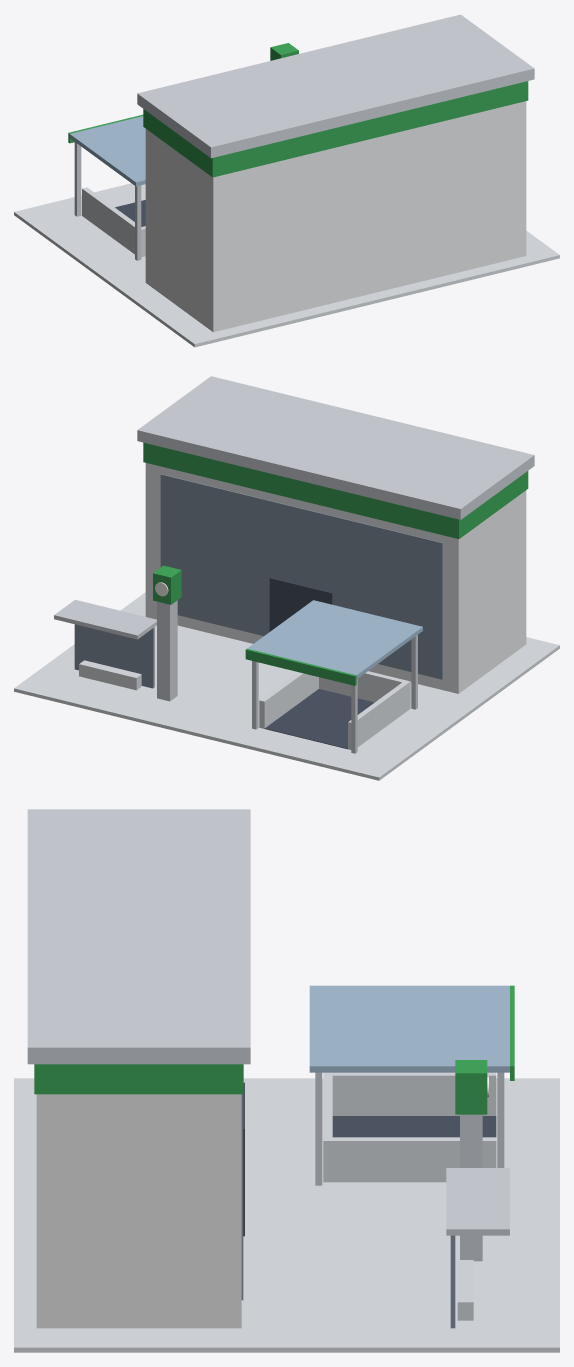
File: station.glb
The picture shows the model from 3 angles, top to bottom: view 1: azimuth 30°, elevation 25°; view 2: azimuth 150°, elevation 25°; view 3: azimuth 270°, elevation 25°; orthographic projection. The views are drawn at different scales.
Visible parts, largest first — view 1: Body; view 2: Body; view 3: Body.
Boxes of the visible parts, bbox=[...] form: Body: bbox=[14, 14, 559, 347]; Body: bbox=[14, 376, 559, 780]; Body: bbox=[14, 809, 559, 1352].
Bounding box in the file's own units: 14 × 7.02 × 12.
